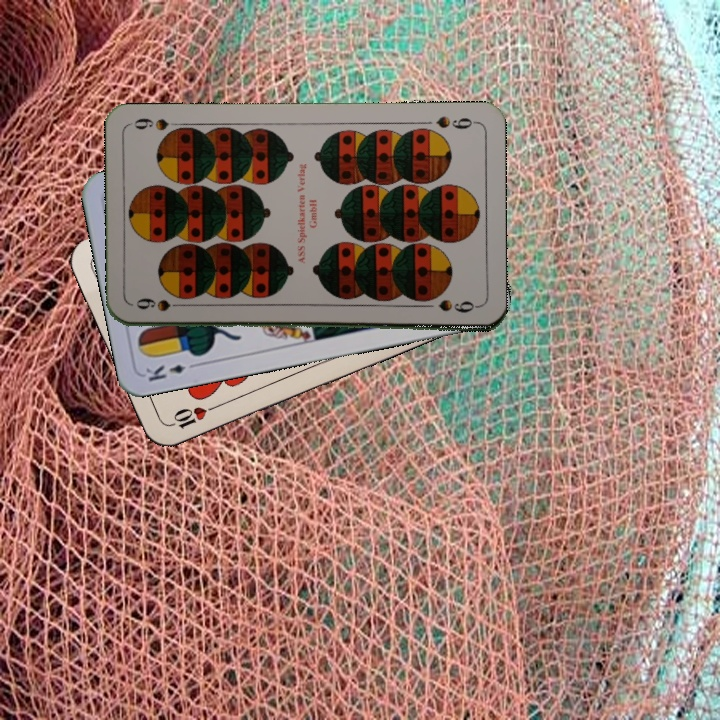EK: (141, 358, 201, 384)
H10: (164, 400, 221, 432)
S9: (132, 296, 190, 314), (432, 112, 479, 132)
